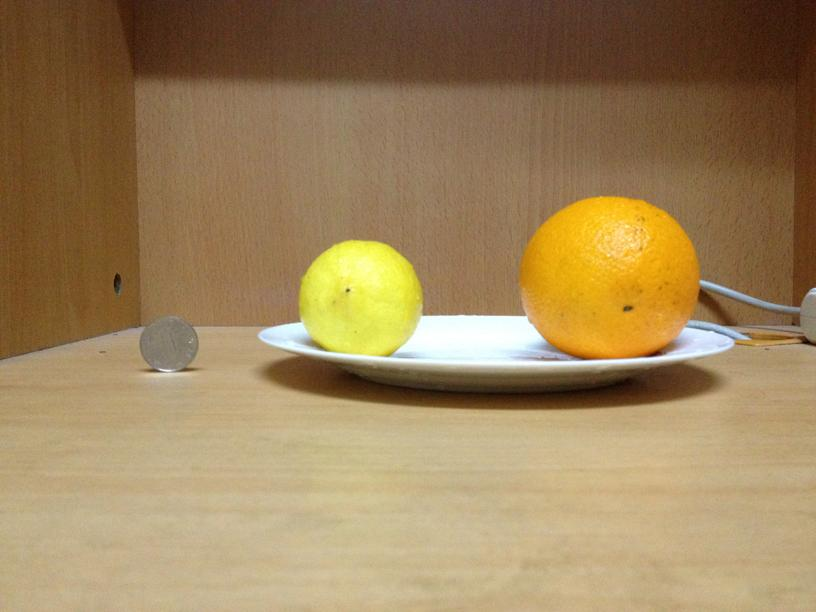coin: (139, 316, 197, 371)
lemon: (297, 240, 422, 357)
orange: (520, 198, 698, 357)
